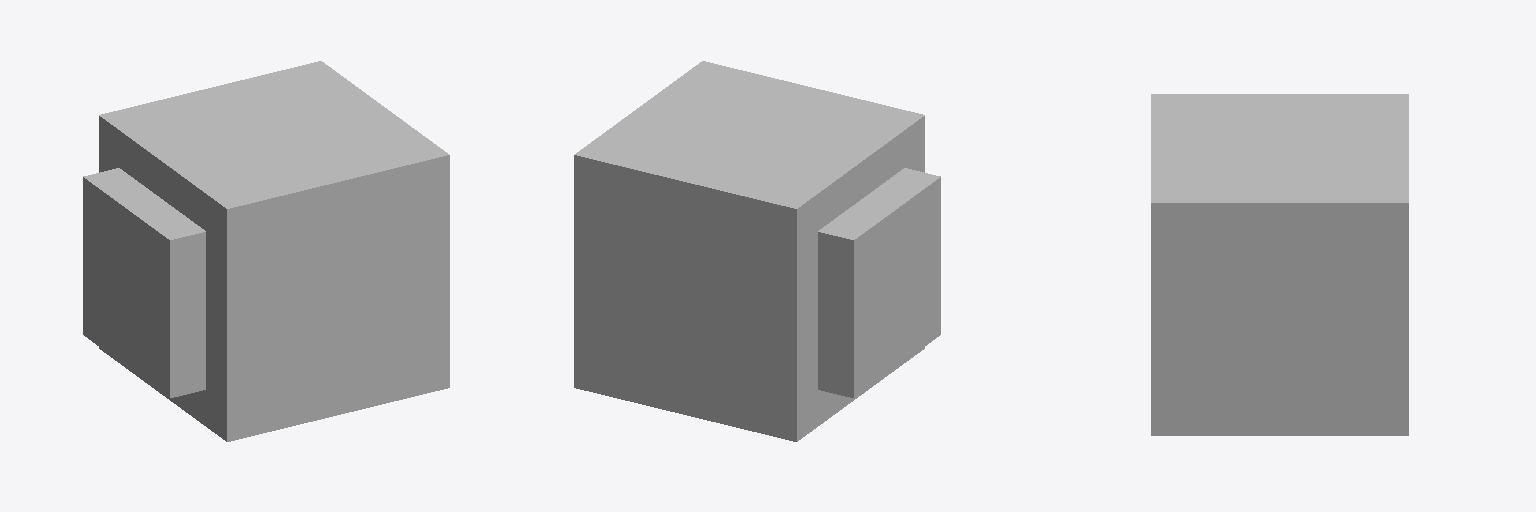
Rendered from cubeContainer1.obj.
3 views of the same model, side by side, from view 1: azimuth 30°, elevation 25°; view 2: azimuth 150°, elevation 25°; view 3: azimuth 270°, elevation 25° (orthographic).
Parts seen in each view (by area): view 1: Cube.001_Cube.003, Cube_Cube.002; view 2: Cube.001_Cube.003, Cube_Cube.002; view 3: Cube.001_Cube.003.
Part boxes in pixels (x1,y1,x2,y2): Cube.001_Cube.003: (99, 61, 449, 441); Cube_Cube.002: (83, 168, 205, 397); Cube.001_Cube.003: (574, 61, 924, 441); Cube_Cube.002: (818, 168, 940, 397); Cube.001_Cube.003: (1151, 94, 1408, 435).
Size of the model in its own units: 3.43 by 2.95 by 2.95.